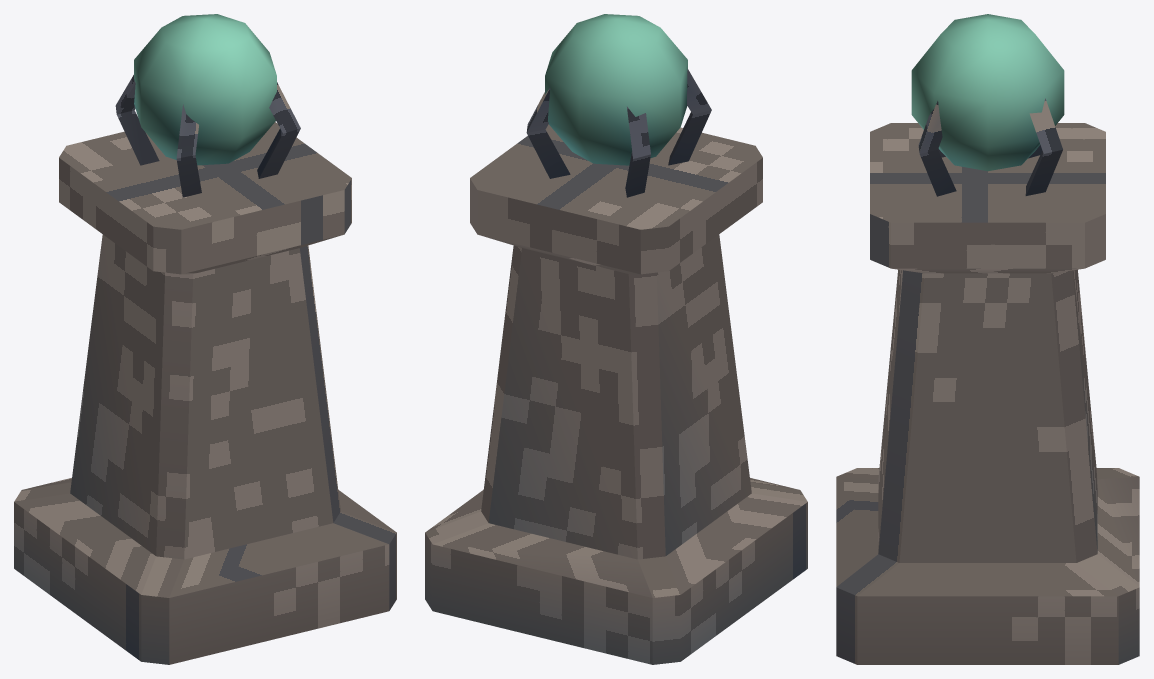
The model's file is dprop.switch.glb.
The picture shows the model from 3 angles, left to right: view 1: azimuth 30°, elevation 25°; view 2: azimuth 150°, elevation 25°; view 3: azimuth 270°, elevation 25°; orthographic projection. The views are drawn at different scales.
Visible parts, largest first — view 1: kit_pedestal, kit_orb, kit_claws; view 2: kit_pedestal, kit_orb, kit_claws; view 3: kit_pedestal, kit_orb, kit_claws.
Boxes of the visible parts, x1,y1,x2,y2 form: kit_pedestal: (14,122,396,664); kit_orb: (134,14,276,165); kit_claws: (115,75,300,197); kit_pedestal: (425,124,807,664); kit_orb: (545,14,687,165); kit_claws: (526,69,711,197); kit_pedestal: (836,123,1139,664); kit_orb: (911,14,1064,171); kit_claws: (918,98,1062,196).
Bounding box in the file's own units: 0.72 × 1.52 × 0.72.
3 materials, 2 textured.
